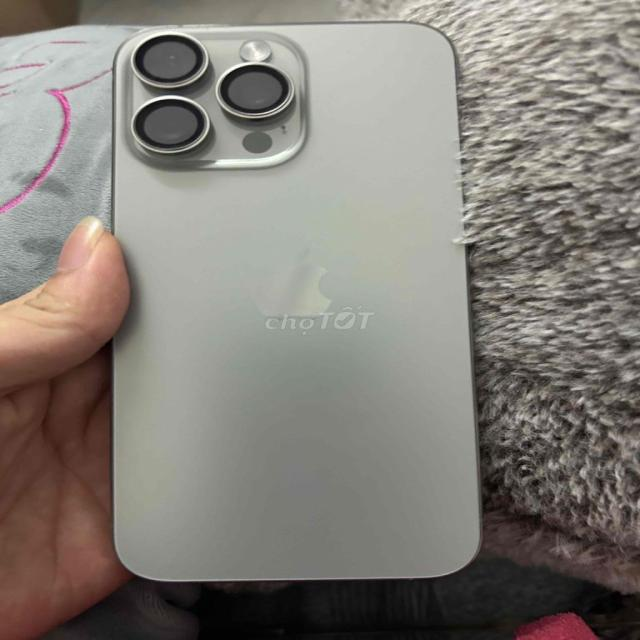gen_15: (80, 19, 491, 606)
